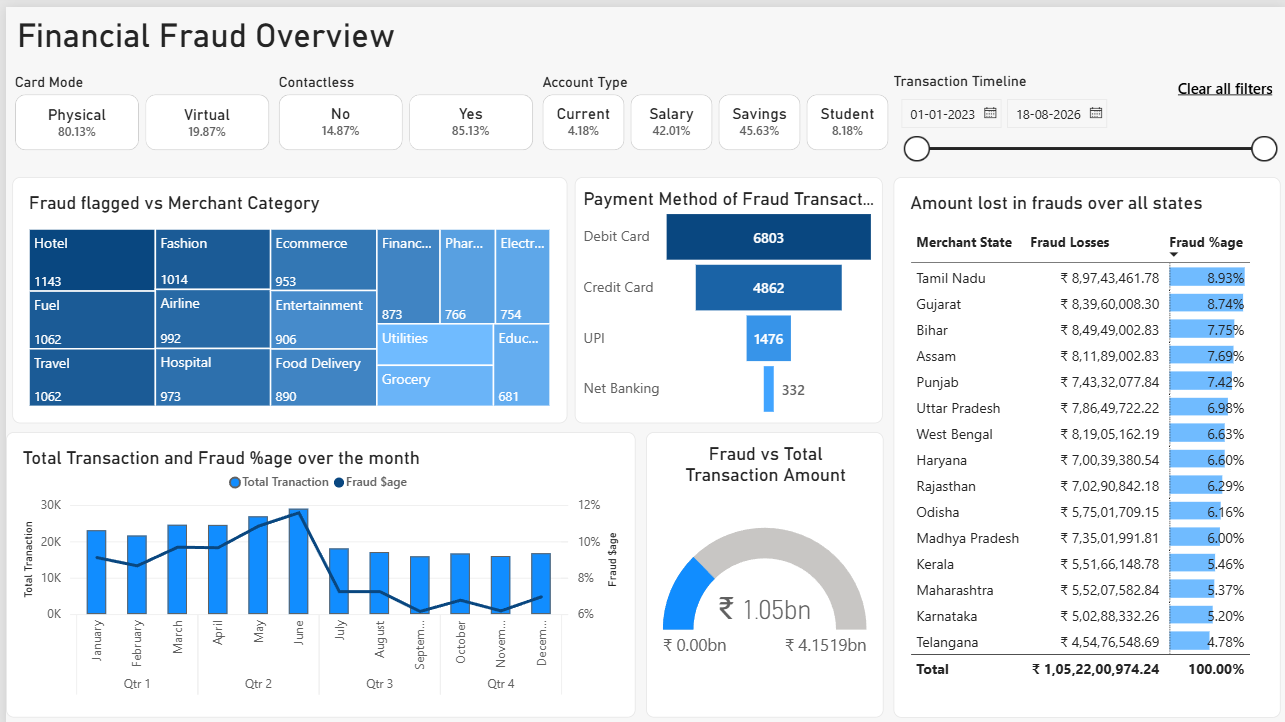

Layout of this report page (visuals, bound fields, positions):
{"tool":"powerbi","page":{"name":"Executive Overview","canvas":[1280,720],"ordinal":0},"visuals":[{"type":"cardVisual","fields":{"Data":["Sum(Transactions.Fraud_Flag)"]},"box":[998.8,251.2,216.2,108.8],"z":0},{"type":"gauge","title":"Fraud vs Total Transaction Amount","fields":{"MaxValue":["Transactions.Total_Transaction_Amount"],"Y":["Transactions.Fraud Losses"]},"box":[639.5,425.1,237.8,285.9],"z":1000},{"type":"treemap","title":"Fraud flagged vs Merchant Category","fields":{"Group":["Transactions.Merchant_Category"],"Values":["Sum(Transactions.Fraud_Flag)"]},"box":[6.2,170,555,246.2],"z":2000},{"type":"tableEx","title":"Amount lost in frauds over all states","fields":{"Values":["Transactions.Merchant_State","Transactions.Fraud Losses","Sum(Transactions.Fraud_Flag)"]},"box":[887.2,170,386.9,540.9],"z":3000},{"type":"lineStackedColumnComboChart","title":"Total Transaction and Fraud %age over the month","fields":{"Category":["Transactions.Transaction_Date.Variation.Date Hierarchy.Quarter","Transactions.Transaction_Date.Variation.Date Hierarchy.Month"],"Y":["CountNonNull(Transactions.Fraud_Flag)1"],"Y2":["Sum(Transactions.Fraud_Flag)"]},"box":[0,425.1,629.7,285.9],"z":4000},{"type":"funnel","title":"Payment Method of Fraud Transactions","fields":{"Category":["Transactions.Payment_Method"],"Y":["Sum(Transactions.Fraud_Flag)"]},"box":[569.2,170,308.3,246.7],"z":5000},{"type":"textbox","box":[0,8.6,400.5,48.1],"z":6000},{"type":"advancedSlicerVisual","title":"Card Mode","fields":{"Label":["Min(Cards_Data.Card_Mode)"],"Values":["Cards_Data.Card_Mode"]},"box":[5.2,62.8,263.8,85],"z":7000},{"type":"advancedSlicerVisual","title":"Contactless","fields":{"Label":["Min(Cards_Data.Contactless)"],"Values":["Cards_Data.Contactless"]},"box":[268.6,62.8,263.7,85],"z":8000},{"type":"slicer","title":"Transaction Timeline","fields":{"Values":["Transactions.Transaction_Date"]},"box":[887.2,62.8,386.9,107.2],"z":9000},{"type":"actionButton","box":[1157,56.7,123.2,50.5],"z":10000},{"type":"advancedSlicerVisual","title":"Account Type","fields":{"Label":["Min(Customer_data.Account_Type)"],"Values":["Customer_data.Account_Type"]},"box":[532.3,62.8,354.9,85],"z":11000}]}

Visuals, with their boxes in screenshot pixels (x1, y1, x2, y2), scaled from the page's 1280x720 canvas onto the 1285x722 screenshot:
cardVisual - Sum(Transactions.Fraud_Flag): {"left": 1003, "top": 252, "right": 1220, "bottom": 361}
"Fraud vs Total Transaction Amount" gauge: {"left": 642, "top": 426, "right": 881, "bottom": 713}
"Fraud flagged vs Merchant Category" treemap: {"left": 6, "top": 170, "right": 563, "bottom": 417}
"Amount lost in frauds over all states" tableEx: {"left": 891, "top": 170, "right": 1279, "bottom": 713}
"Total Transaction and Fraud %age over the month" lineStackedColumnComboChart: {"left": 0, "top": 426, "right": 632, "bottom": 713}
"Payment Method of Fraud Transactions" funnel: {"left": 571, "top": 170, "right": 881, "bottom": 418}
textbox: {"left": 0, "top": 9, "right": 402, "bottom": 57}
"Card Mode" advancedSlicerVisual: {"left": 5, "top": 63, "right": 270, "bottom": 148}
"Contactless" advancedSlicerVisual: {"left": 270, "top": 63, "right": 534, "bottom": 148}
"Transaction Timeline" slicer: {"left": 891, "top": 63, "right": 1279, "bottom": 170}
actionButton: {"left": 1162, "top": 57, "right": 1284, "bottom": 107}
"Account Type" advancedSlicerVisual: {"left": 534, "top": 63, "right": 891, "bottom": 148}
